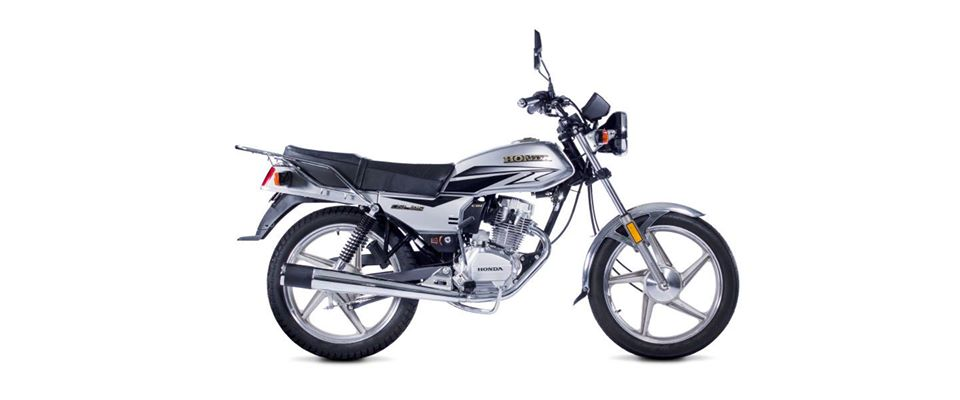moto: (229, 28, 741, 364)
